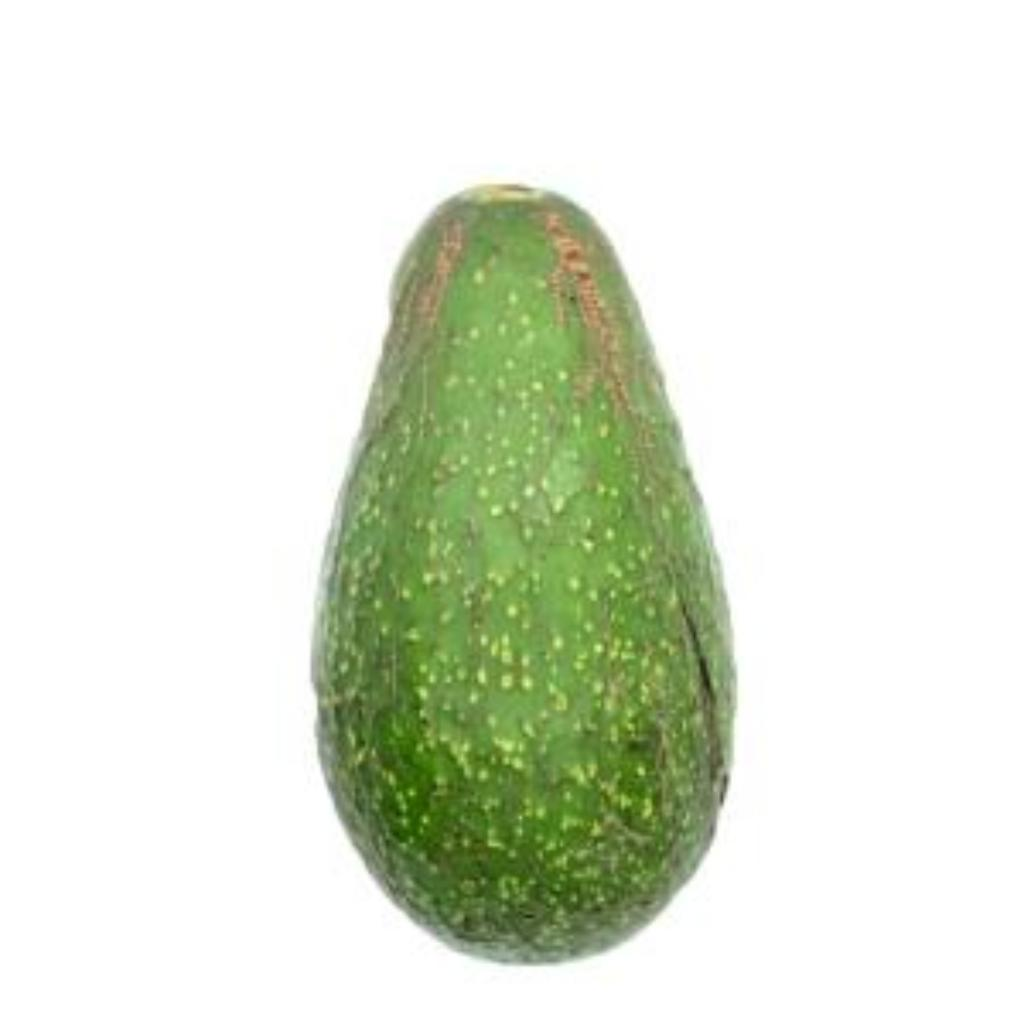cercospora: (293, 171, 771, 963)
